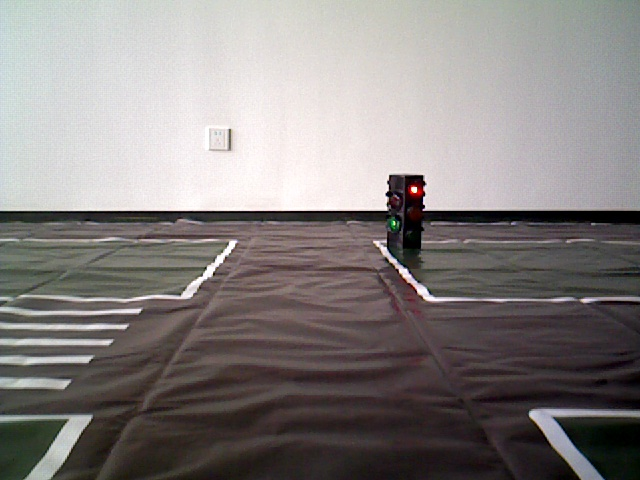red: (390, 175, 421, 258)
